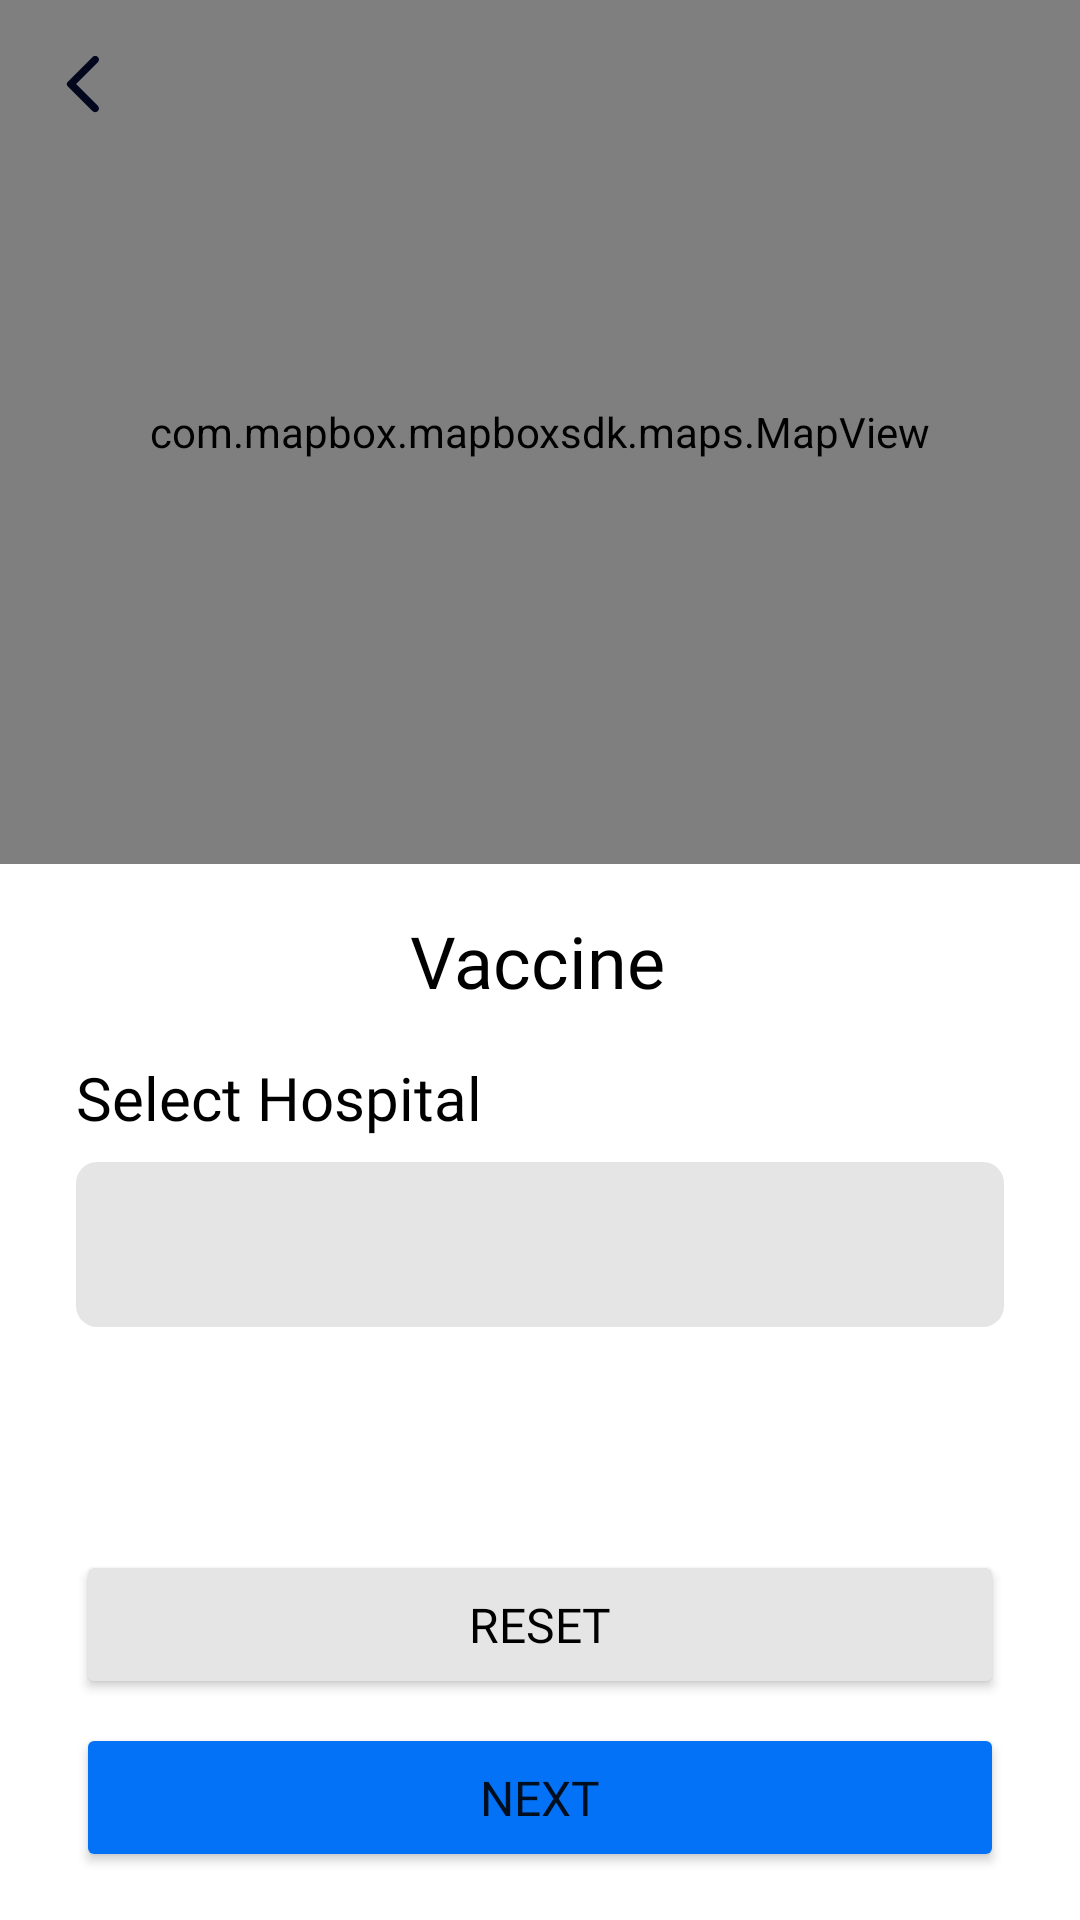

Icons on this 1080*1920 Android screen, each with its box as box(x1, y1, x2, y2):
back: box(67, 56, 99, 112)
